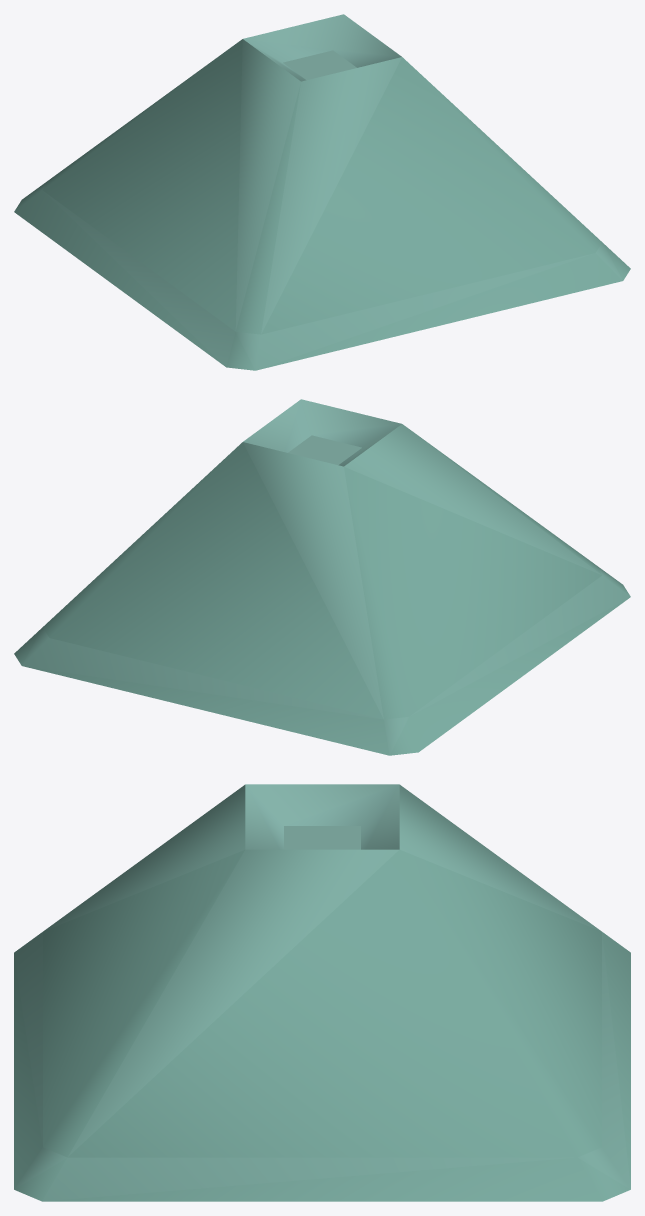
Rendered from kenney_roof-point.fbx.
3 views of the same model, one above another, from view 1: azimuth 30°, elevation 25°; view 2: azimuth 150°, elevation 25°; view 3: azimuth 270°, elevation 25° (orthographic). The views are drawn at different scales.
Parts seen in each view (by area): view 1: roof-point; view 2: roof-point; view 3: roof-point.
Boxes of the visible parts, bbox=[...] form: roof-point: bbox=[14, 14, 630, 370]; roof-point: bbox=[14, 399, 630, 755]; roof-point: bbox=[14, 784, 630, 1201].
Size of the model in its own units: 110 by 50 by 110.
